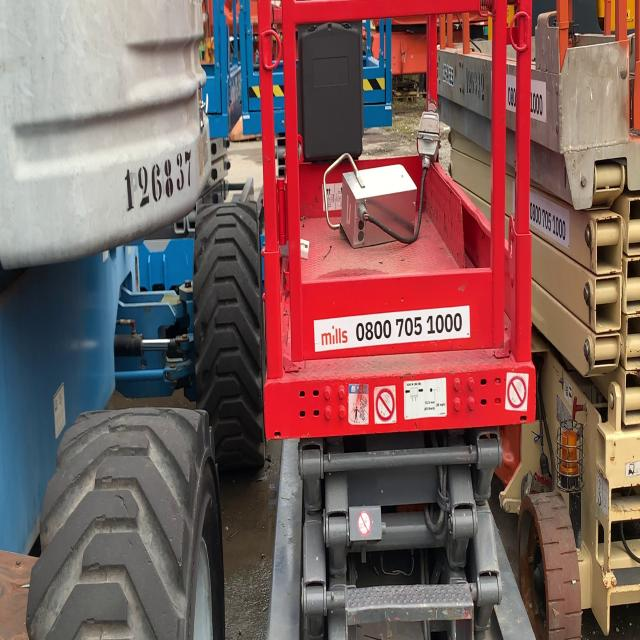Adesivo Longo: (313, 304, 472, 352)
